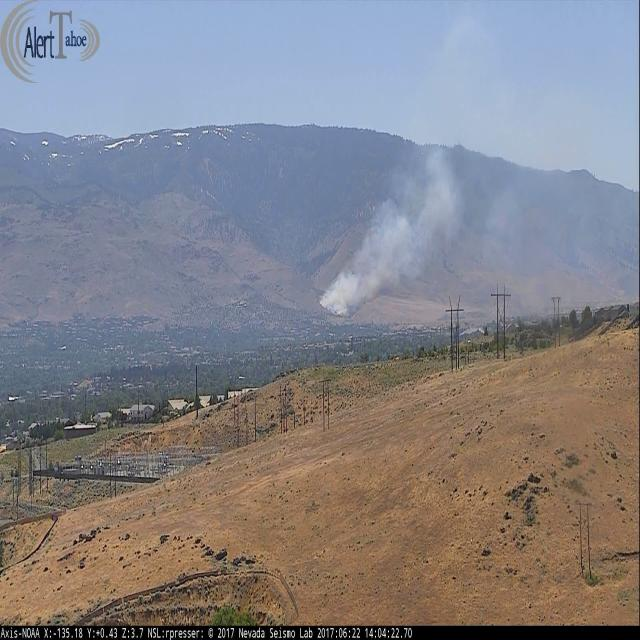smoke: (319, 139, 465, 315)
